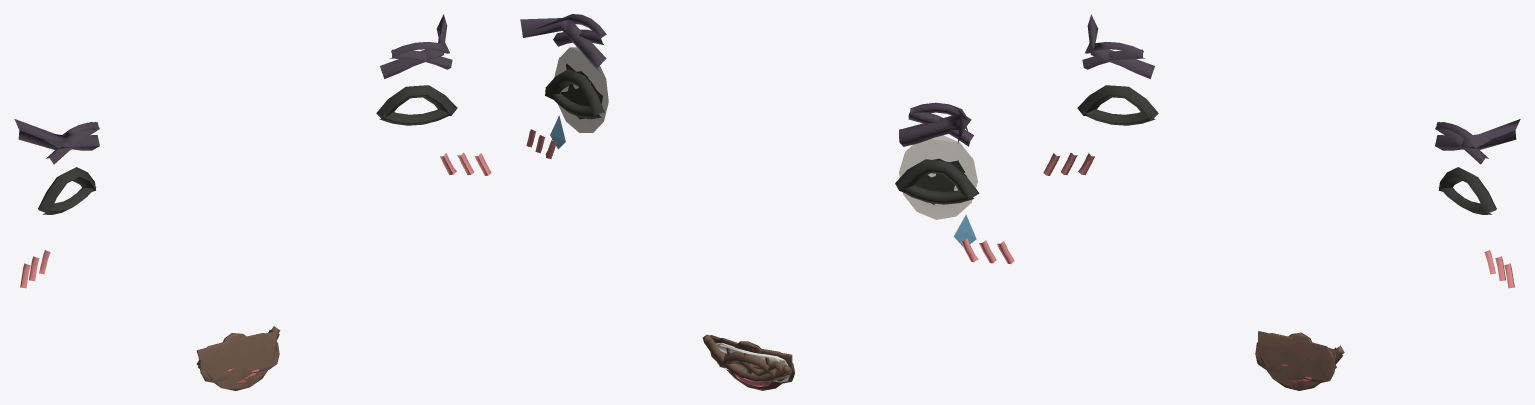
Rendered from npc_face_isol.glb.
3 views of the same model, side by side, from view 1: azimuth 30°, elevation 25°; view 2: azimuth 150°, elevation 25°; view 3: azimuth 330°, elevation 25° (orthographic). The views are drawn at different scales.
Visible parts, largest first — view 1: eyes_x_happy, mouth_x_laugh, eyes_x_angry, mouth_x_grit, eyes_x_blink, eyes_x_shy, eyes_x_surprised, eyes_x_sad, mouth_x_o; view 2: eyes_x_surprised, eyes_x_angry, eyes_x_happy, eyes_x_sad, eyes_x_blink, eyes_x_shy, mouth_x_laugh, mouth_x_grin, mouth_x_grit, mouth_x_frown; view 3: eyes_x_happy, mouth_x_laugh, eyes_x_angry, mouth_x_grit, eyes_x_blink, eyes_x_shy, eyes_x_surprised, eyes_x_sad, mouth_x_o.
Boxes of the visible parts, x1,y1,x2,y2 form: eyes_x_happy: [38, 85, 457, 213]; mouth_x_laugh: [196, 331, 276, 390]; eyes_x_angry: [14, 14, 447, 150]; mouth_x_grit: [199, 333, 279, 382]; eyes_x_blink: [42, 109, 451, 214]; eyes_x_shy: [20, 152, 491, 288]; eyes_x_surprised: [44, 31, 449, 148]; eyes_x_sad: [46, 49, 452, 164]; mouth_x_o: [222, 333, 255, 377]; eyes_x_surprised: [535, 14, 977, 219]; eyes_x_angry: [520, 18, 972, 187]; eyes_x_happy: [545, 69, 979, 200]; eyes_x_sad: [550, 29, 976, 246]; eyes_x_blink: [550, 93, 973, 204]; eyes_x_shy: [526, 89, 1014, 263]; mouth_x_laugh: [710, 335, 792, 390]; mouth_x_grin: [702, 334, 791, 381]; mouth_x_grit: [716, 338, 794, 383]; mouth_x_frown: [719, 352, 785, 381]; eyes_x_happy: [1077, 85, 1496, 213]; mouth_x_laugh: [1258, 331, 1336, 390]; eyes_x_angry: [1087, 14, 1520, 150]; mouth_x_grit: [1255, 333, 1335, 382]; eyes_x_blink: [1083, 109, 1491, 214]; eyes_x_shy: [1043, 153, 1514, 288]; eyes_x_surprised: [1085, 42, 1490, 148]; eyes_x_sad: [1082, 49, 1488, 164]; mouth_x_o: [1279, 332, 1313, 379].
Bounding box in the file's own units: 0.492 × 0.3136 × 0.0556.
